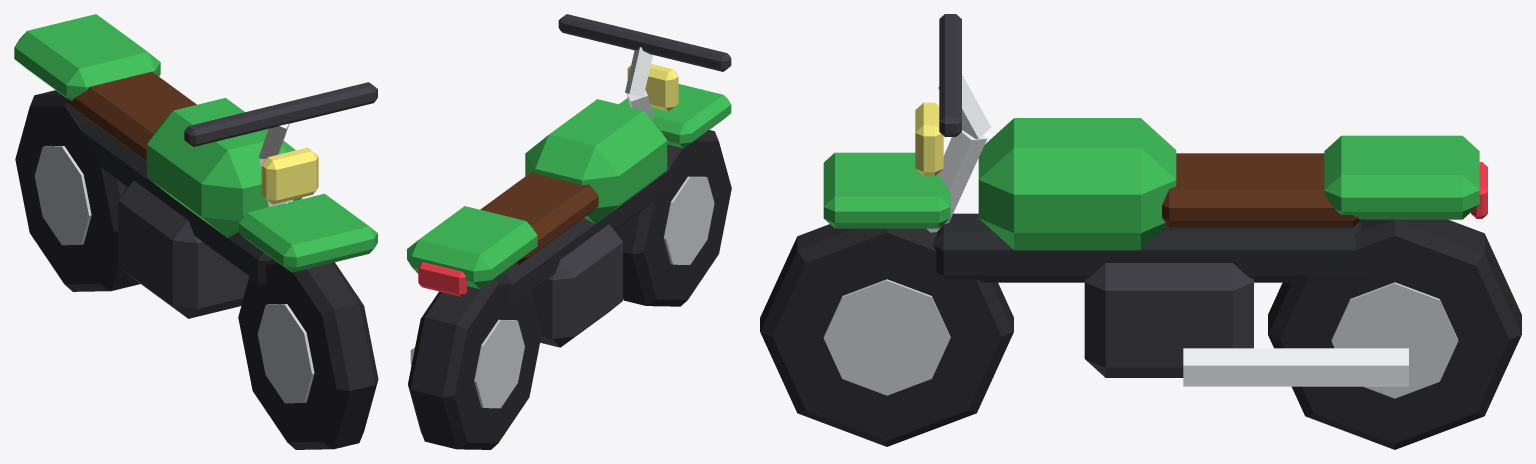
The model's file is GreenMotorcycle.fbx.
3 renders of one model, left to right at view 1: azimuth 30°, elevation 25°; view 2: azimuth 150°, elevation 25°; view 3: azimuth 270°, elevation 25°, orthographic. The views are drawn at different scales.
Visible parts, largest first — view 1: GreenMotorcycle, GreenMotorcycle_WheelF, GreenMotorcycle_WheelB; view 2: GreenMotorcycle, GreenMotorcycle_WheelB, GreenMotorcycle_WheelF; view 3: GreenMotorcycle, GreenMotorcycle_WheelF, GreenMotorcycle_WheelB.
Part boxes in pixels (x1,y1,x2,y2): GreenMotorcycle: (14, 14, 377, 318); GreenMotorcycle_WheelF: (238, 258, 378, 449); GreenMotorcycle_WheelB: (15, 90, 139, 291); GreenMotorcycle: (407, 14, 731, 364); GreenMotorcycle_WheelB: (408, 273, 542, 449); GreenMotorcycle_WheelF: (615, 130, 731, 306); GreenMotorcycle: (823, 14, 1487, 386); GreenMotorcycle_WheelF: (760, 224, 1013, 446); GreenMotorcycle_WheelB: (1268, 219, 1521, 449).
Bounding box in the file's own units: 1.8 × 2.93 × 5.4.
1 material, 1 textured.
